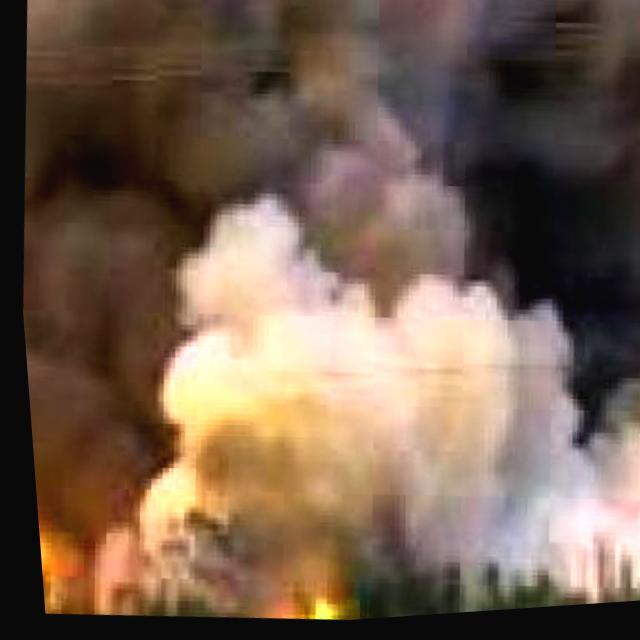fire: (117, 571, 350, 636), (27, 464, 85, 616)
